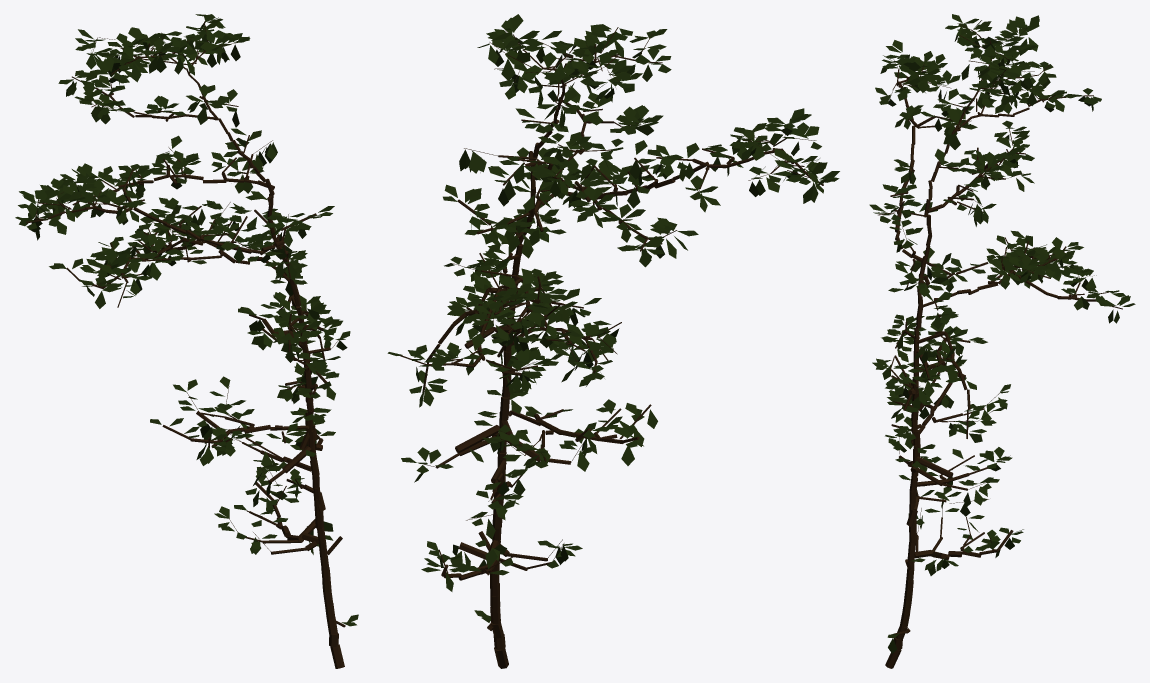
File: 2022_tree_348.obj
3 views of the same model, side by side, from view 1: azimuth 30°, elevation 25°; view 2: azimuth 150°, elevation 25°; view 3: azimuth 270°, elevation 25° (orthographic). The views are drawn at different scales.
Visible parts, largest first — view 1: Leaves, TrunkAndBranches; view 2: Leaves, TrunkAndBranches; view 3: Leaves, TrunkAndBranches.
Boxes of the visible parts, x1,y1,x2,y2 form: Leaves: (15,14,358,626); TrunkAndBranches: (26,21,345,668); Leaves: (387,14,839,622); TrunkAndBranches: (399,27,823,668); Leaves: (869,14,1135,653); TrunkAndBranches: (878,23,1122,668).
Size of the model in its own units: 5.99 by 10.31 by 4.33.
